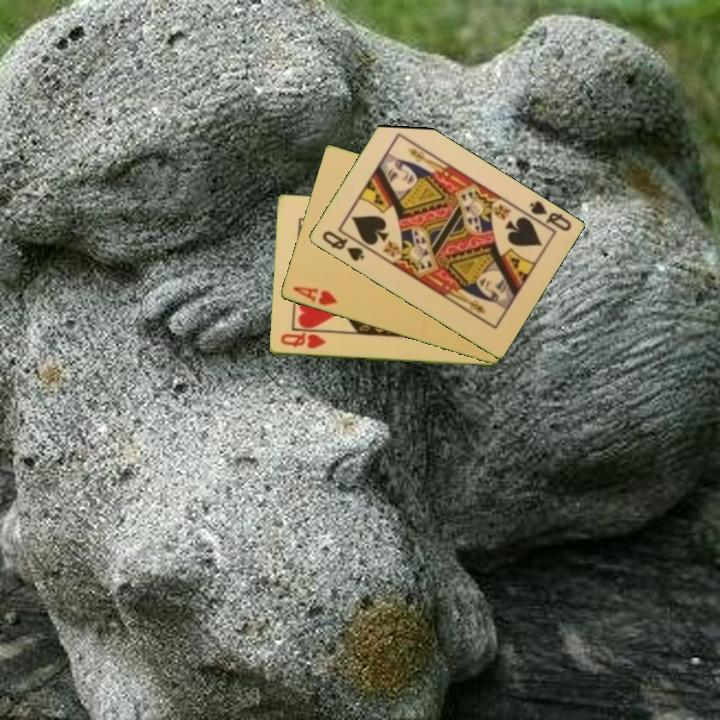Ah: (289, 283, 340, 309)
Qh: (277, 330, 328, 352)
Qs: (318, 227, 367, 264), (526, 197, 574, 234)
